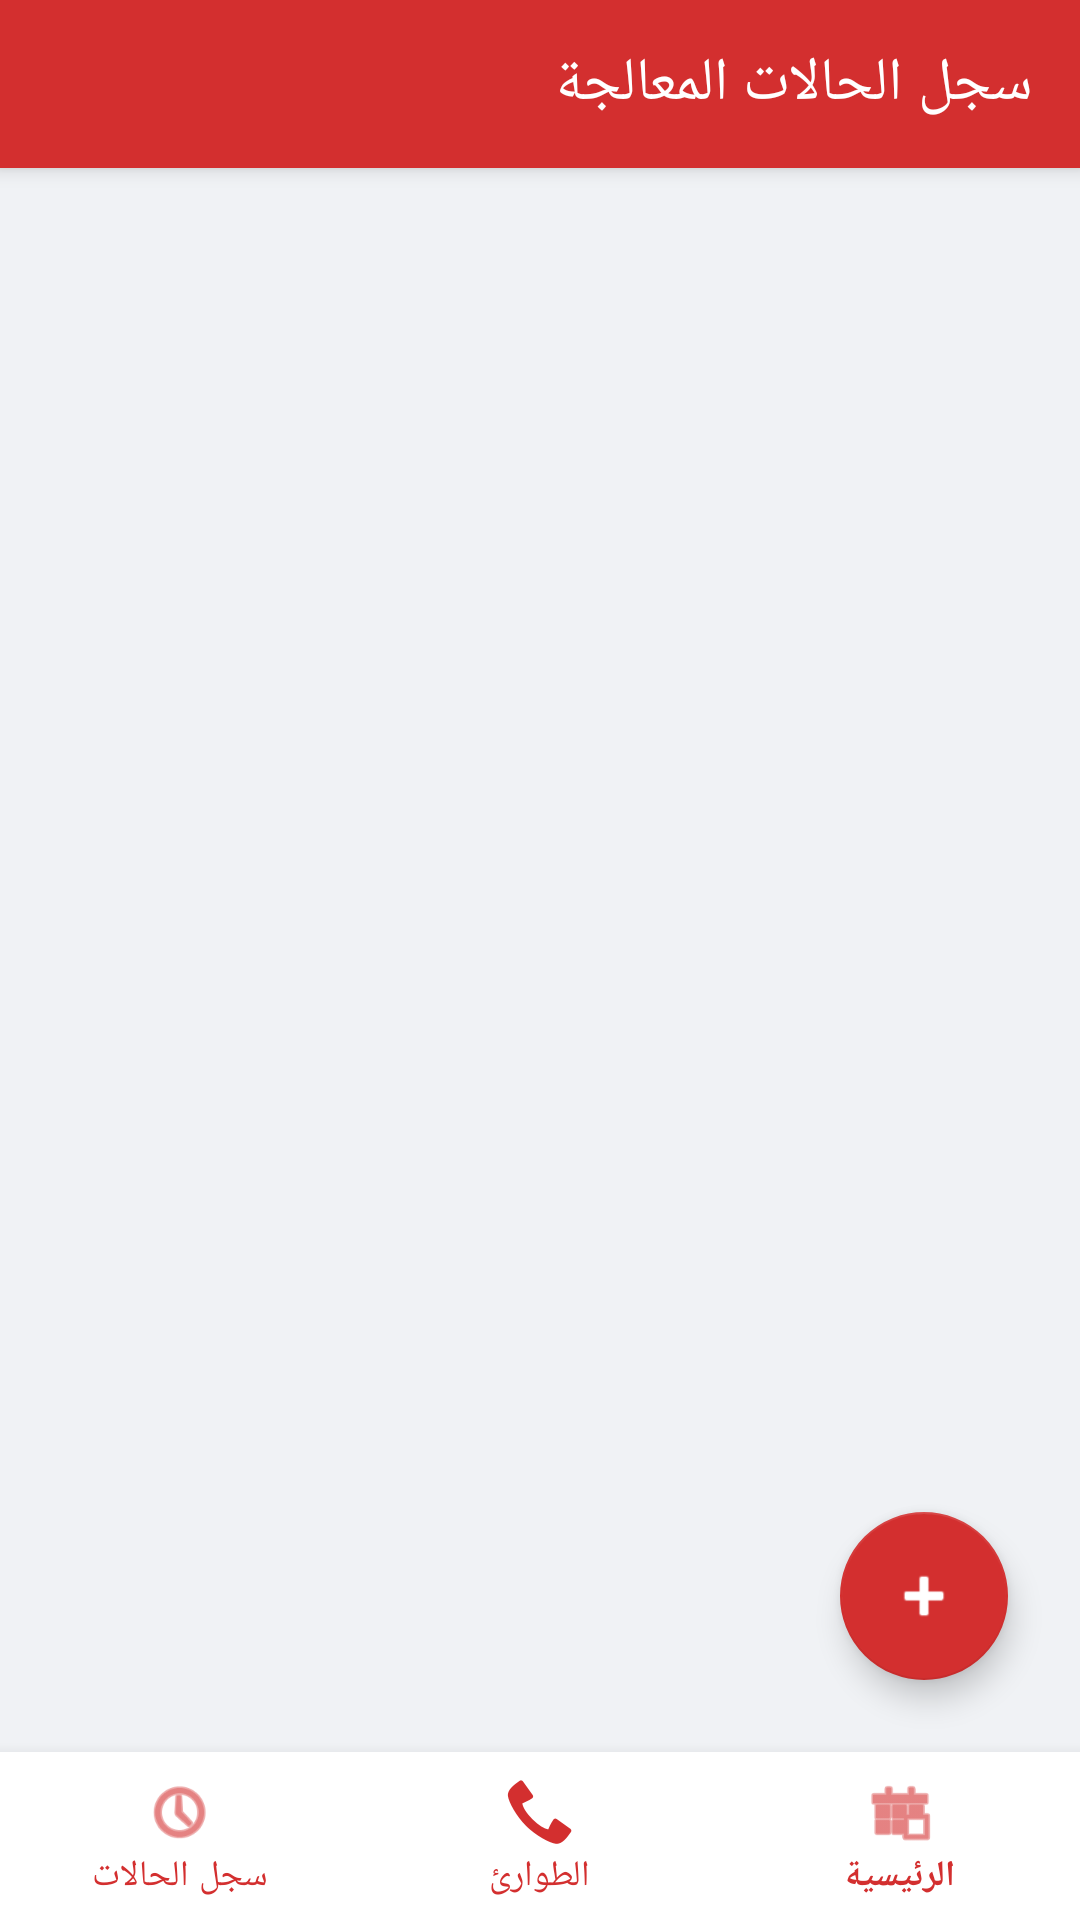

Named icons in this screenshot (1080 x 1920) and their centers, (x,y):
تسجيل حالة معالجة: (924,1596)
